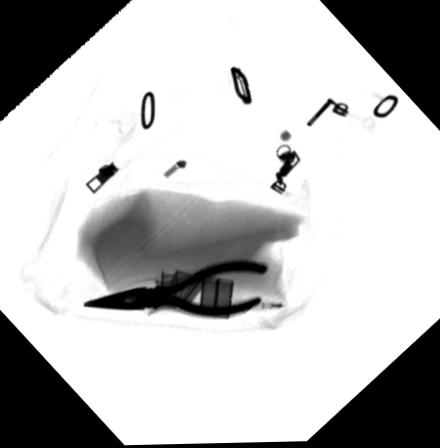Pliers: (83, 261, 270, 320)
